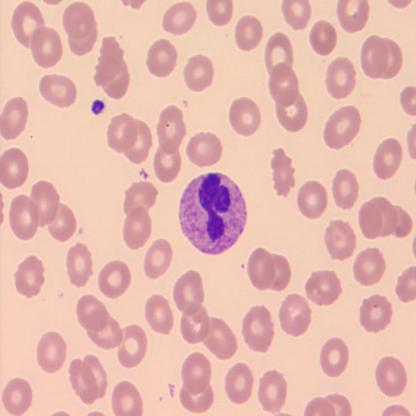Segmented neutrophil: (177, 166, 248, 257)
